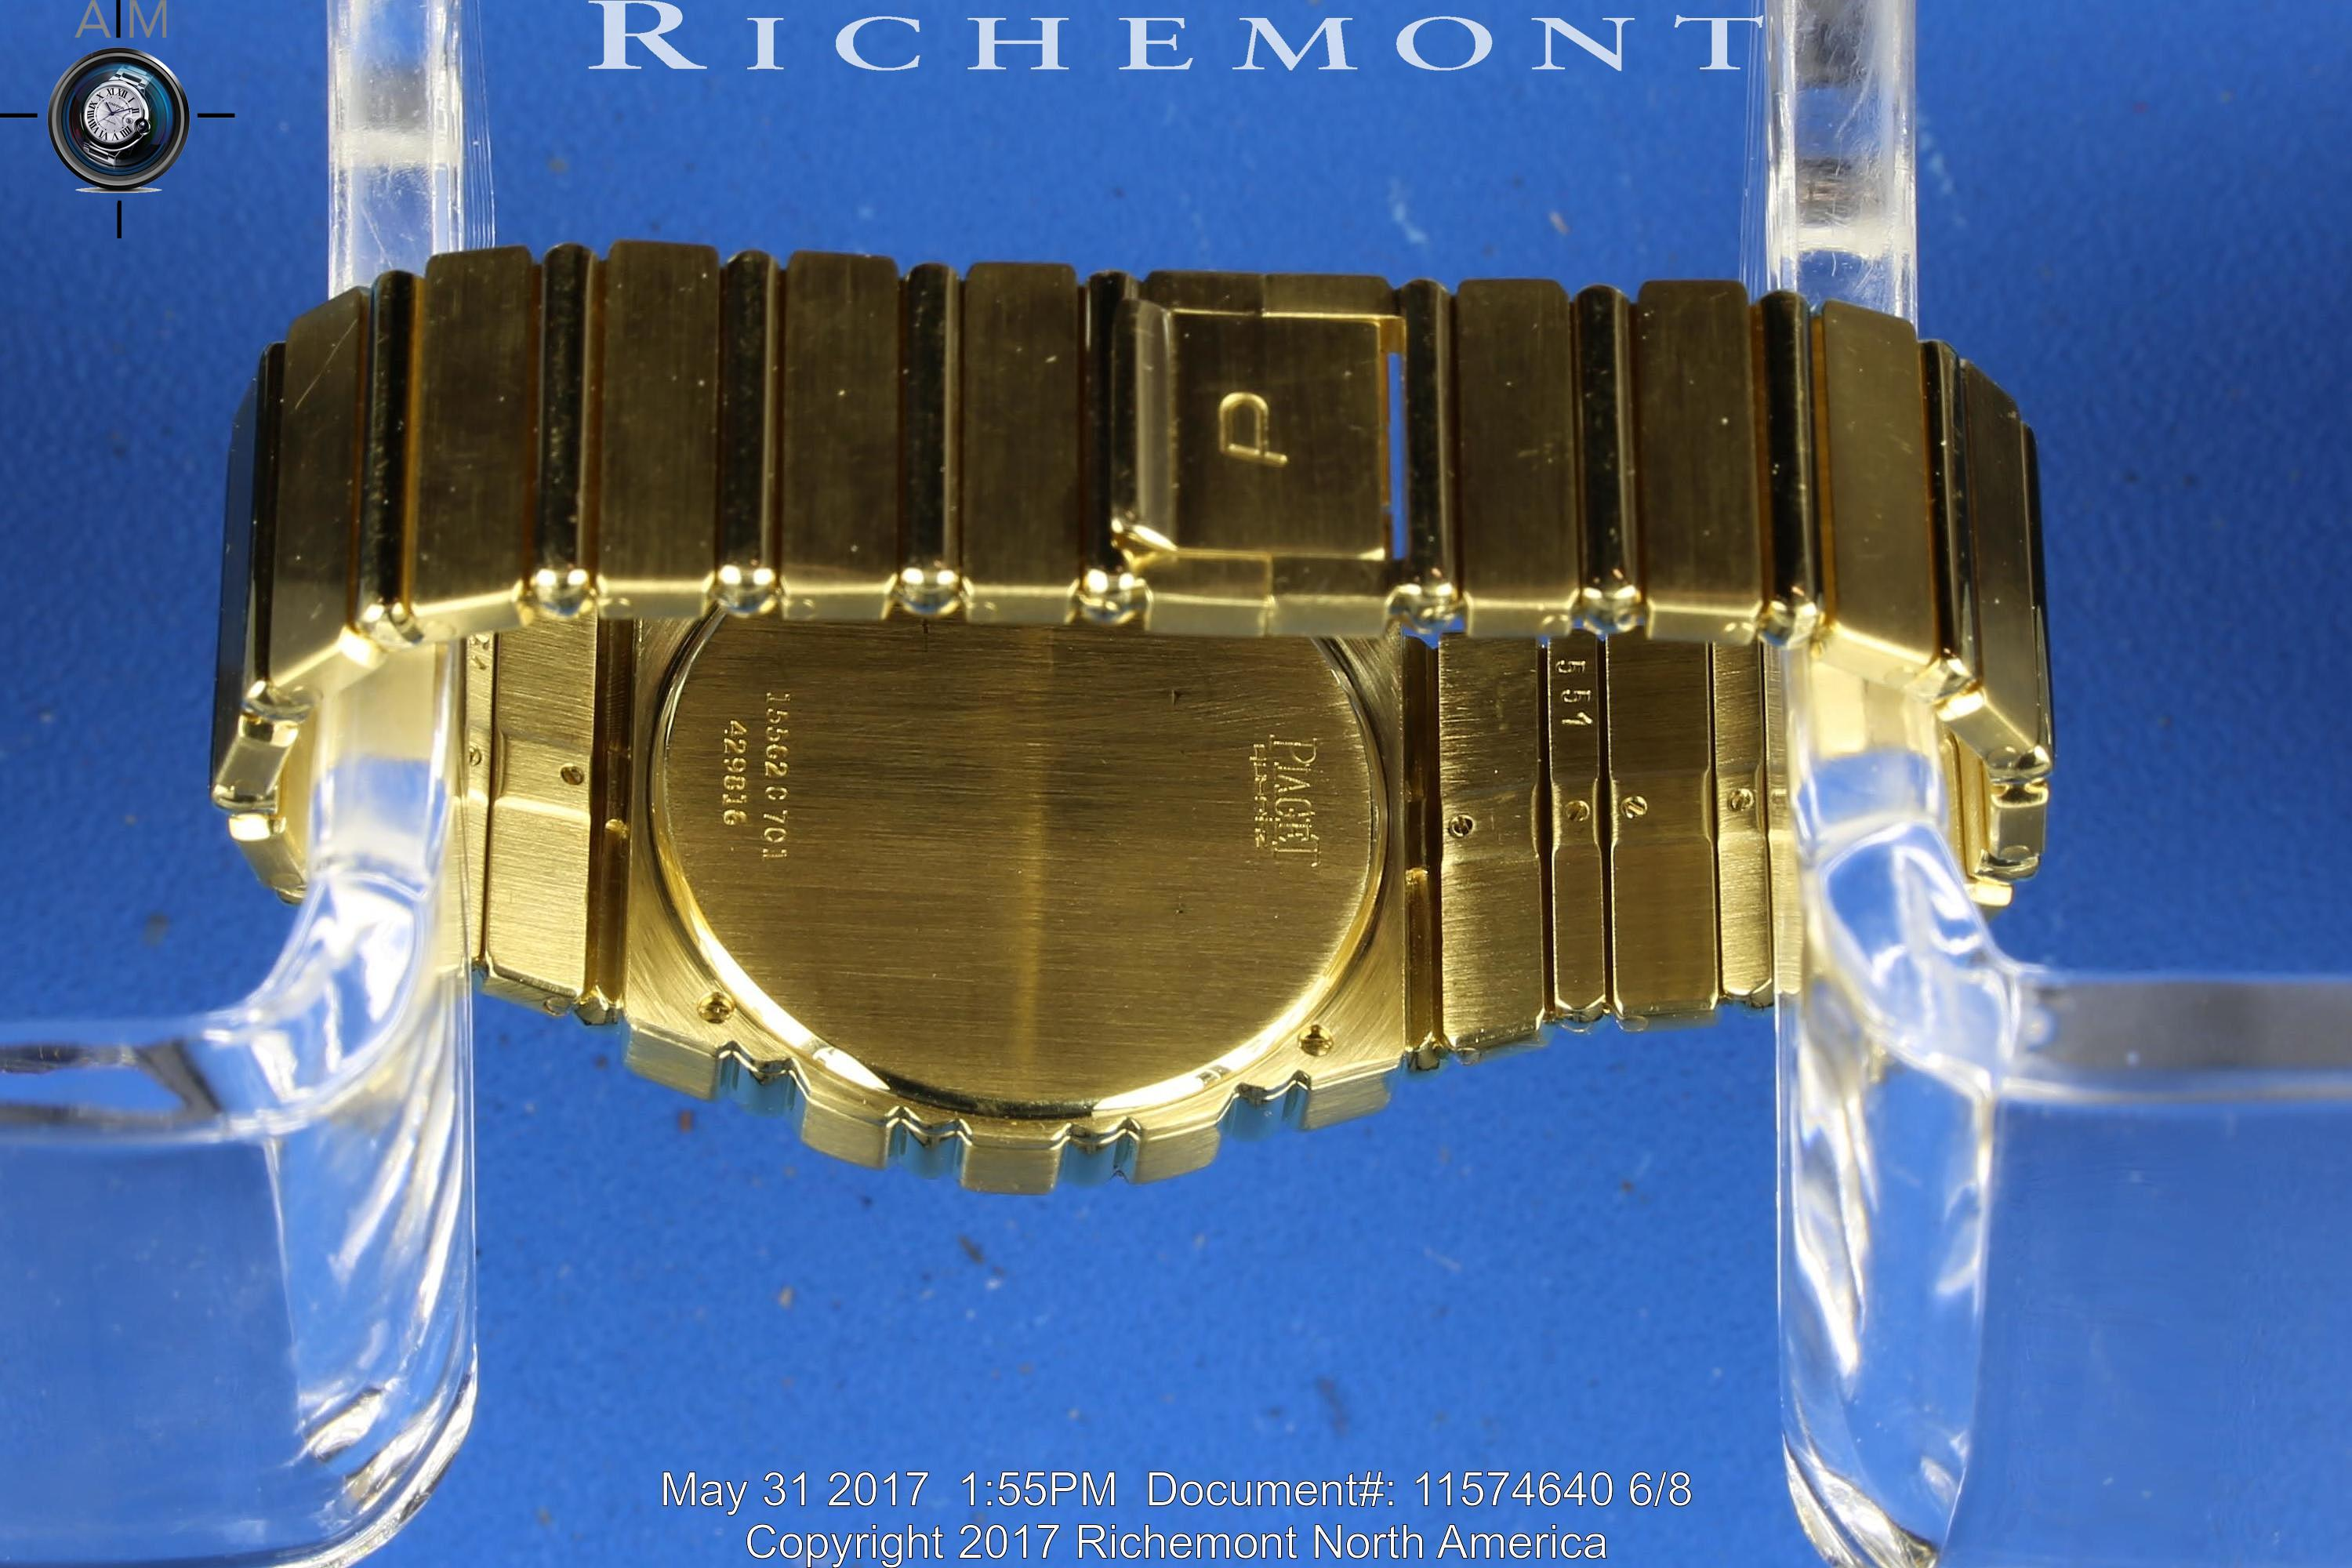Watch BackCase: (616, 625, 1431, 1195)
